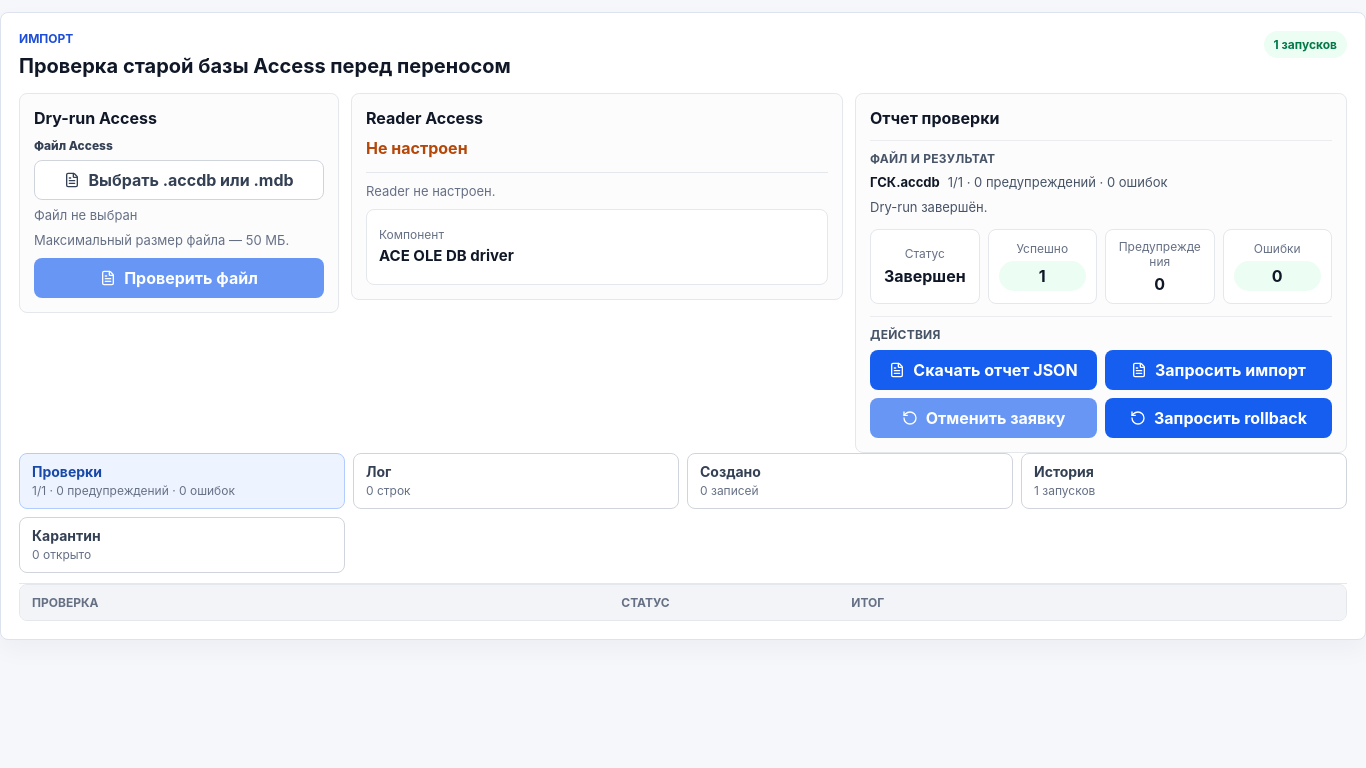
it: ImportPanel server failures › loads hidden import lists only when their tabs open and reuses successful results
Expected: the text "Reader не настроен." is shown, [366, 172, 828, 199]
Click the tab "Лог 0 строк": click(388, 491) [353, 453, 679, 509]
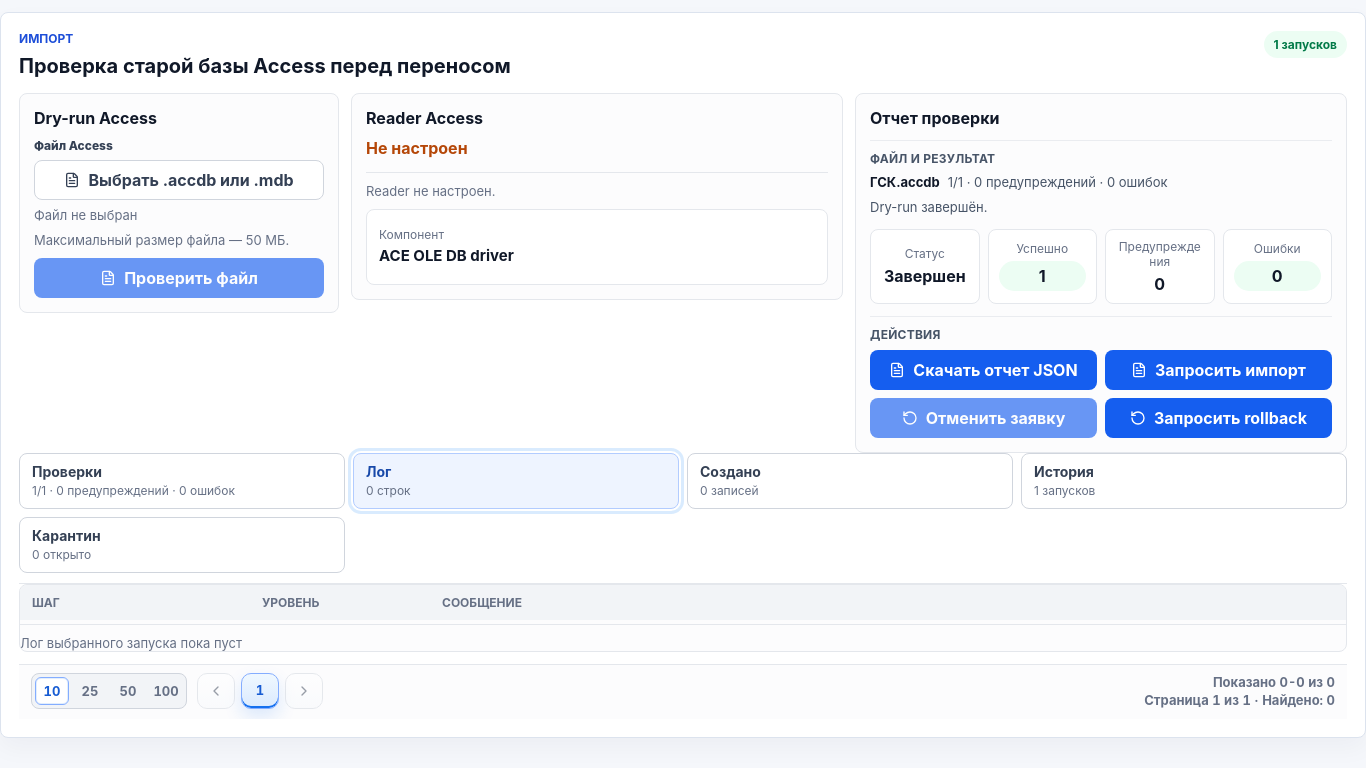
Expected: the text "Лог выбранного запуска пока пуст" is shown, [20, 624, 1346, 651]
Click the tab "Создано 0 записей": click(730, 472) [687, 453, 1013, 509]
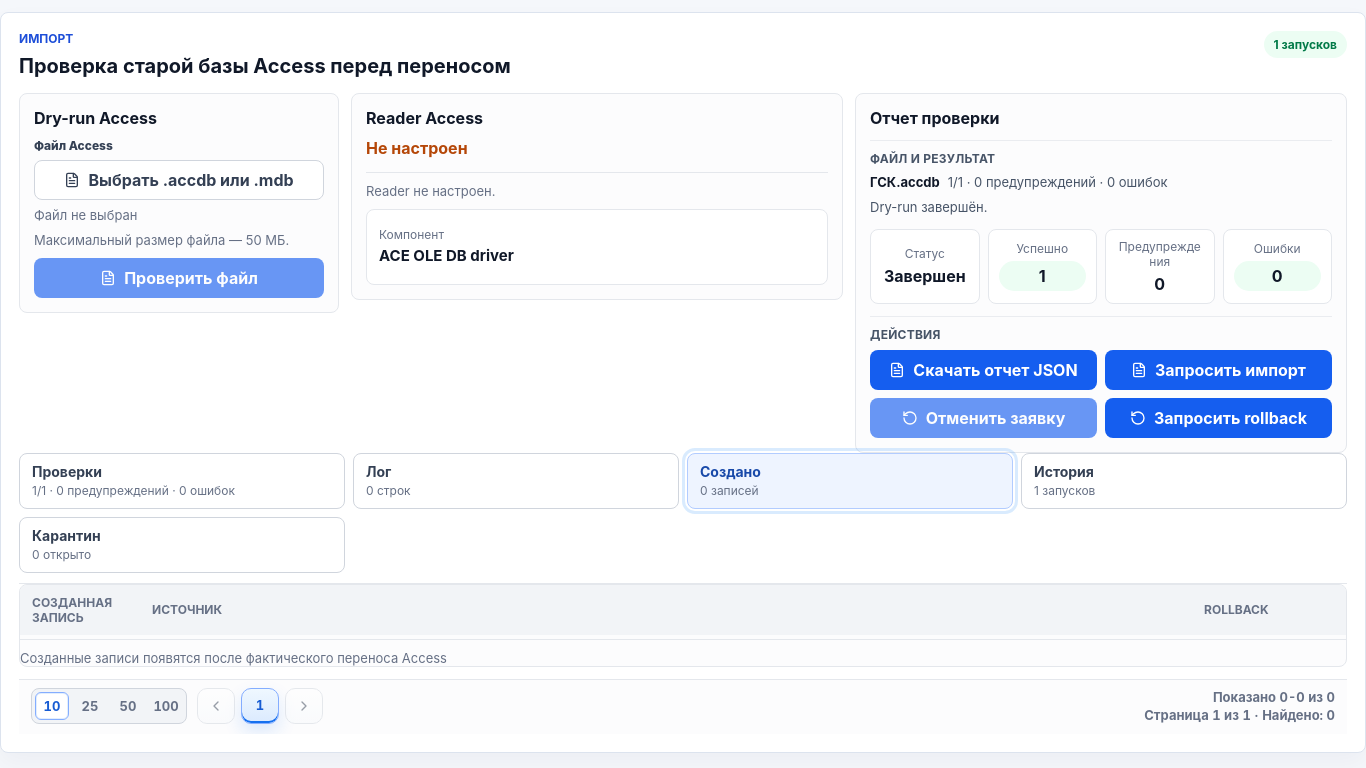
Expected: the text "Созданные записи появятся после фактического переноса Access" is shown, [20, 639, 1346, 666]
Click the tab "Карантин 0 открыто": click(66, 536) [19, 517, 345, 573]
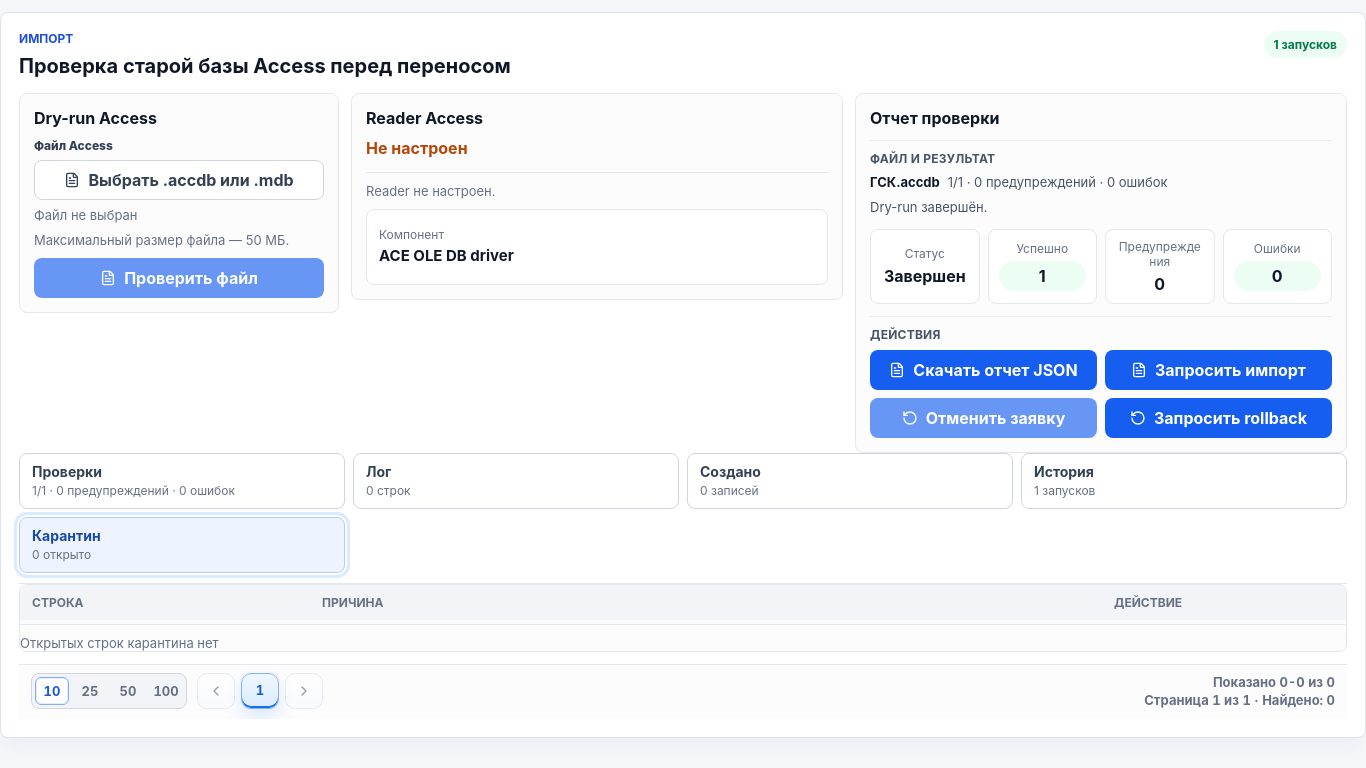
Expected: the text "Открытых строк карантина нет" is shown, [20, 624, 1346, 651]
Click the tab "Лог 0 строк": click(388, 491) [353, 453, 679, 509]
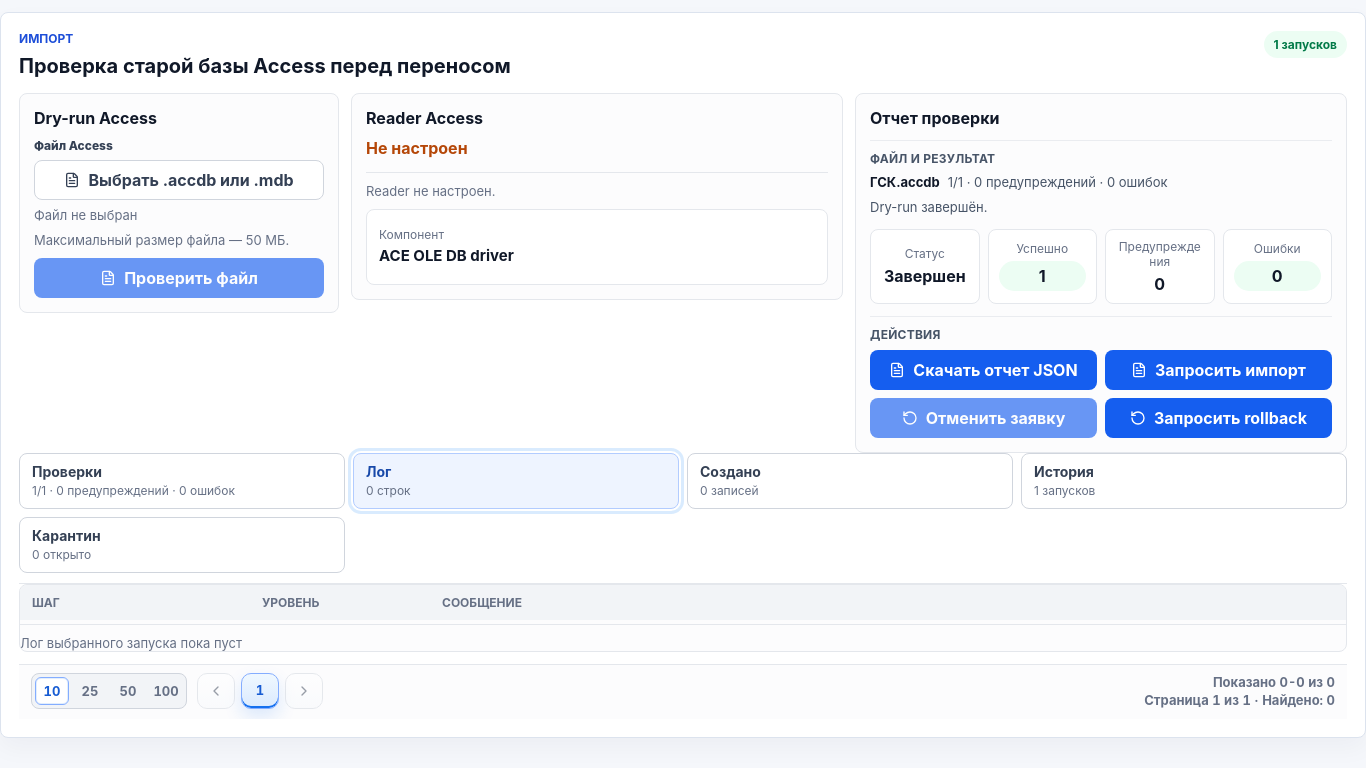
Expected: the text "Лог выбранного запуска пока пуст" is shown, [20, 624, 1346, 651]
